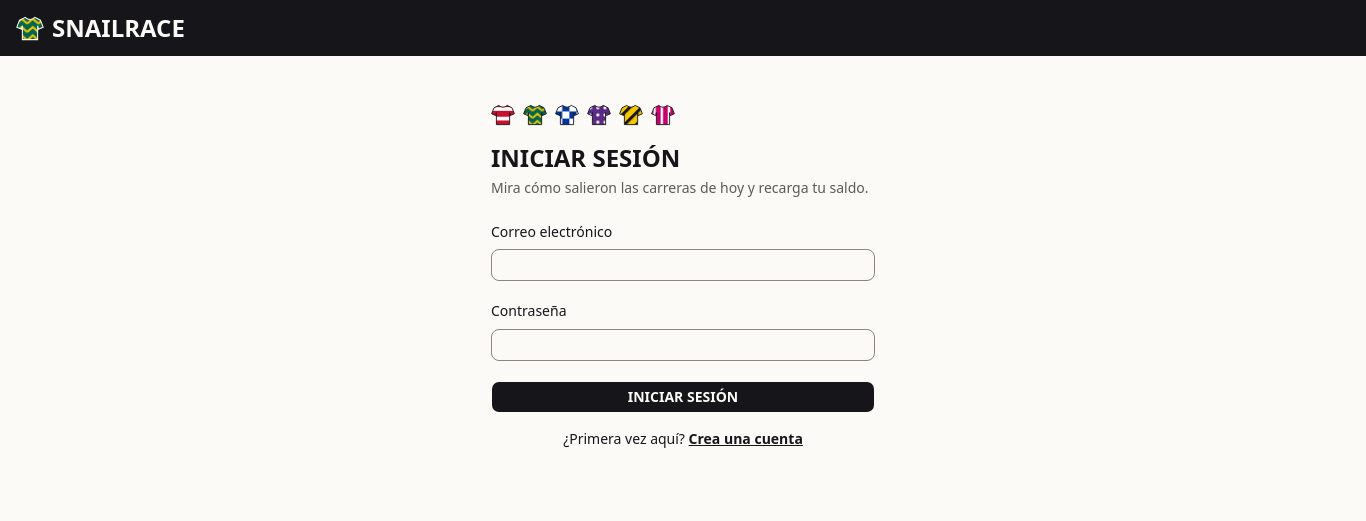
Scenario: asks for both fields
Clear the field labelled "Correo electrónico" at (683, 265), box [491, 249, 875, 281]
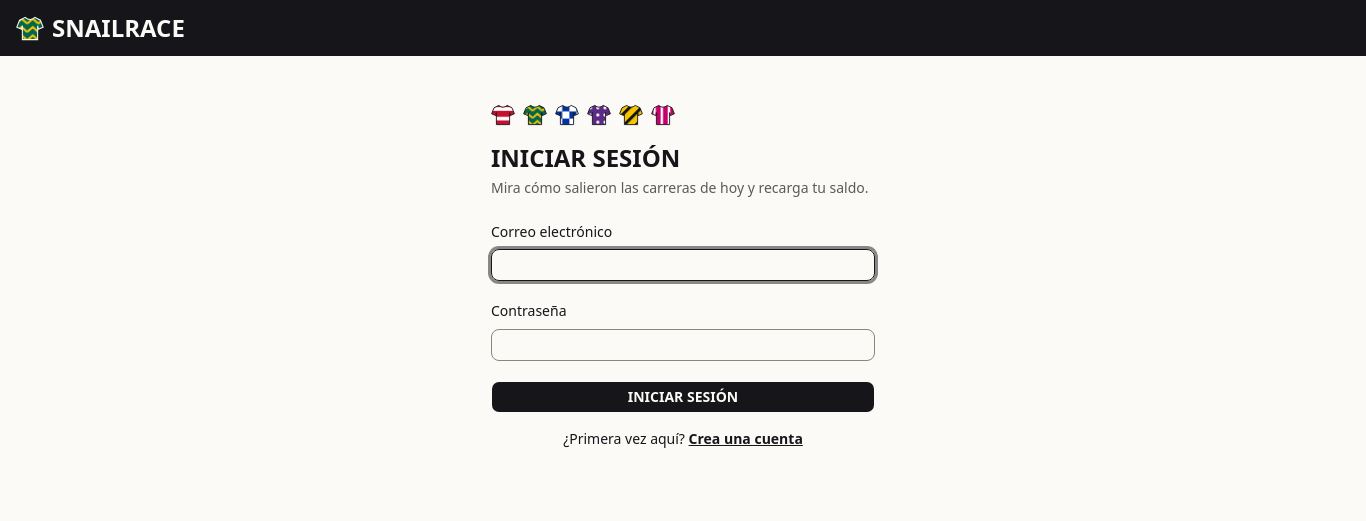
Clear the password field labelled "Contraseña" at (683, 344), box [491, 328, 875, 360]
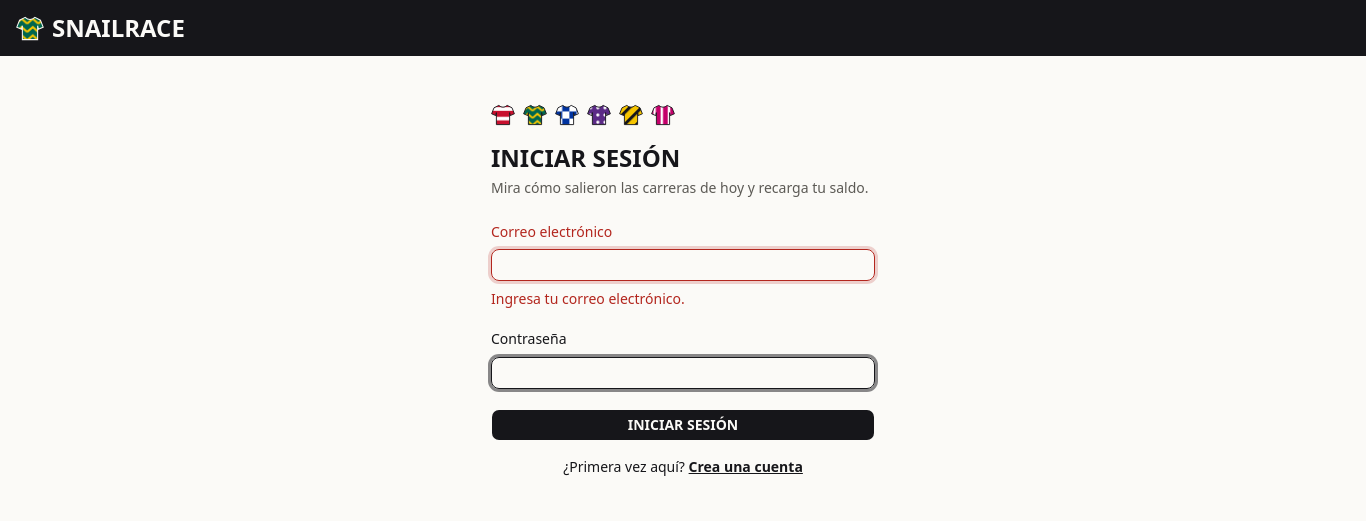
Click the button "Iniciar sesión" at (683, 424), box [491, 408, 875, 440]
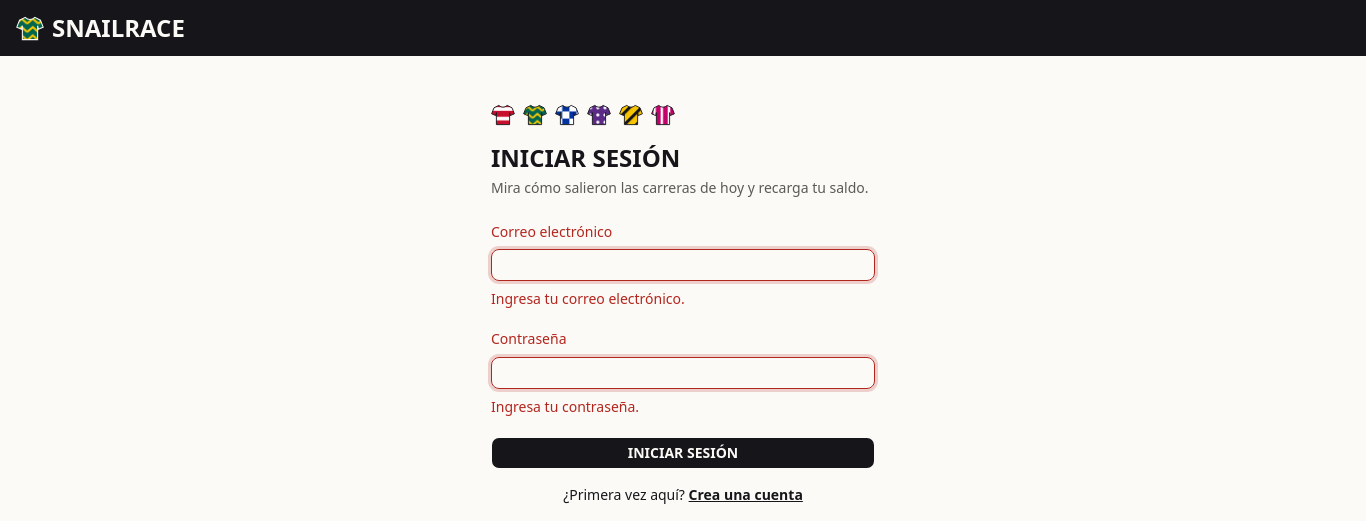
Now the text "Ingresa tu correo electrónico." is shown, box [491, 289, 685, 308]
Now the text "Ingresa tu contraseña." is shown, box [491, 396, 639, 416]
